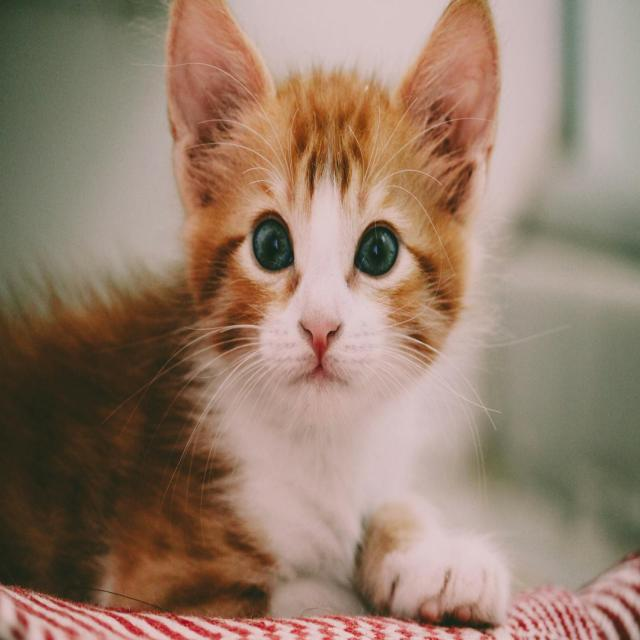Cat: (0, 0, 519, 627)
